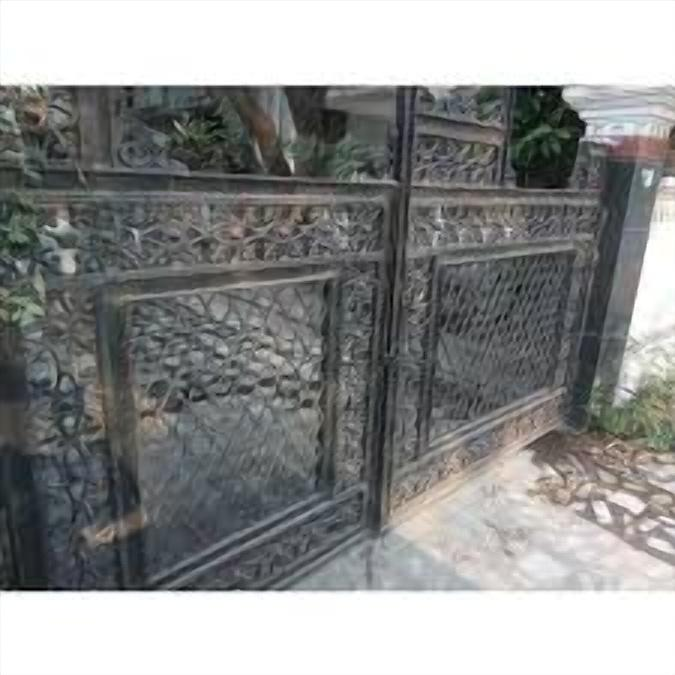Gate: (0, 82, 608, 592)
